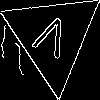V: (28, 12, 73, 68)
